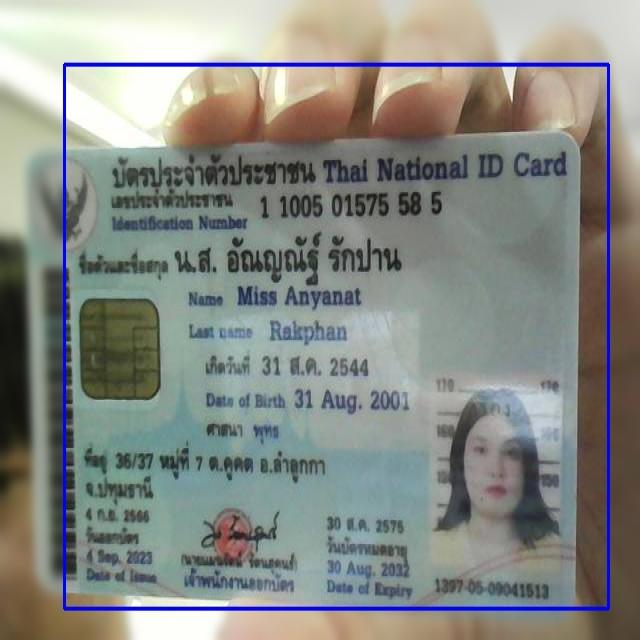Address_th: (80, 439, 328, 508)
Date_of_Birth: (290, 381, 414, 420)
Date_of_Expiry: (322, 554, 415, 585)
Date_of_Issue: (82, 546, 157, 570)
First_Name: (232, 280, 362, 314)
ID_Number: (255, 188, 449, 221)
Image: (430, 372, 564, 582)
Last_Name: (265, 317, 351, 350)
Thai_Name: (170, 229, 405, 286)
